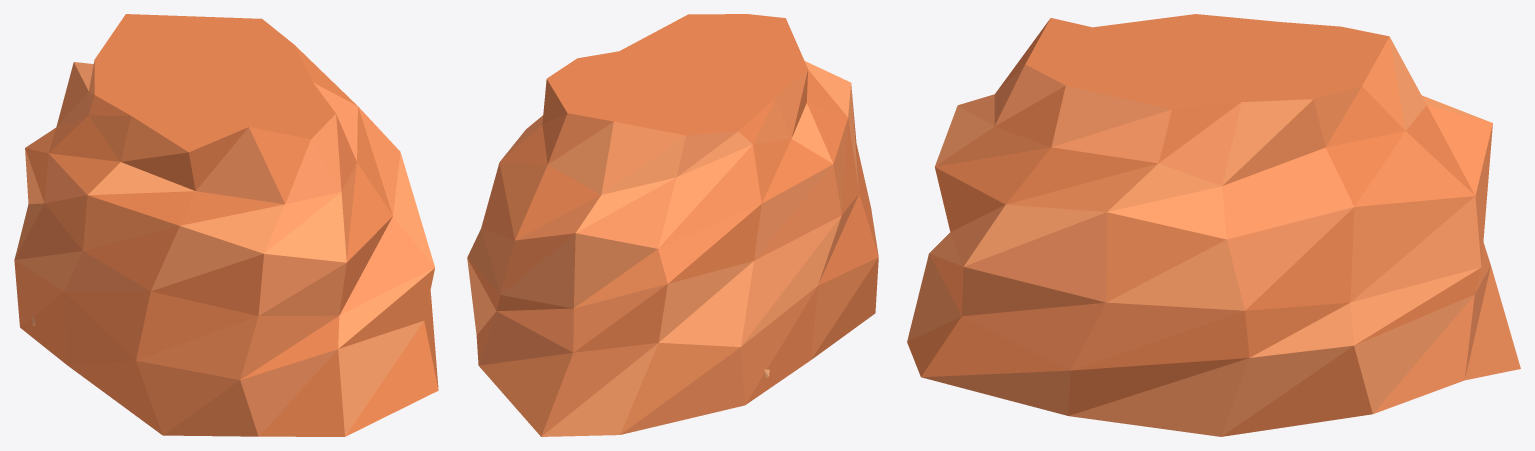
File: cliff.glb
3 views of the same model, side by side, from view 1: azimuth 30°, elevation 25°; view 2: azimuth 150°, elevation 25°; view 3: azimuth 270°, elevation 25° (orthographic). The views are drawn at different scales.
Visible parts, largest first — view 1: CliffMesh; view 2: CliffMesh; view 3: CliffMesh.
Boxes of the visible parts, box(x1,y1,x2,y2) form: CliffMesh: box(14, 14, 438, 436); CliffMesh: box(467, 14, 878, 436); CliffMesh: box(907, 14, 1520, 436).
Size of the model in its own units: 8.23 by 7.16 by 12.18.
